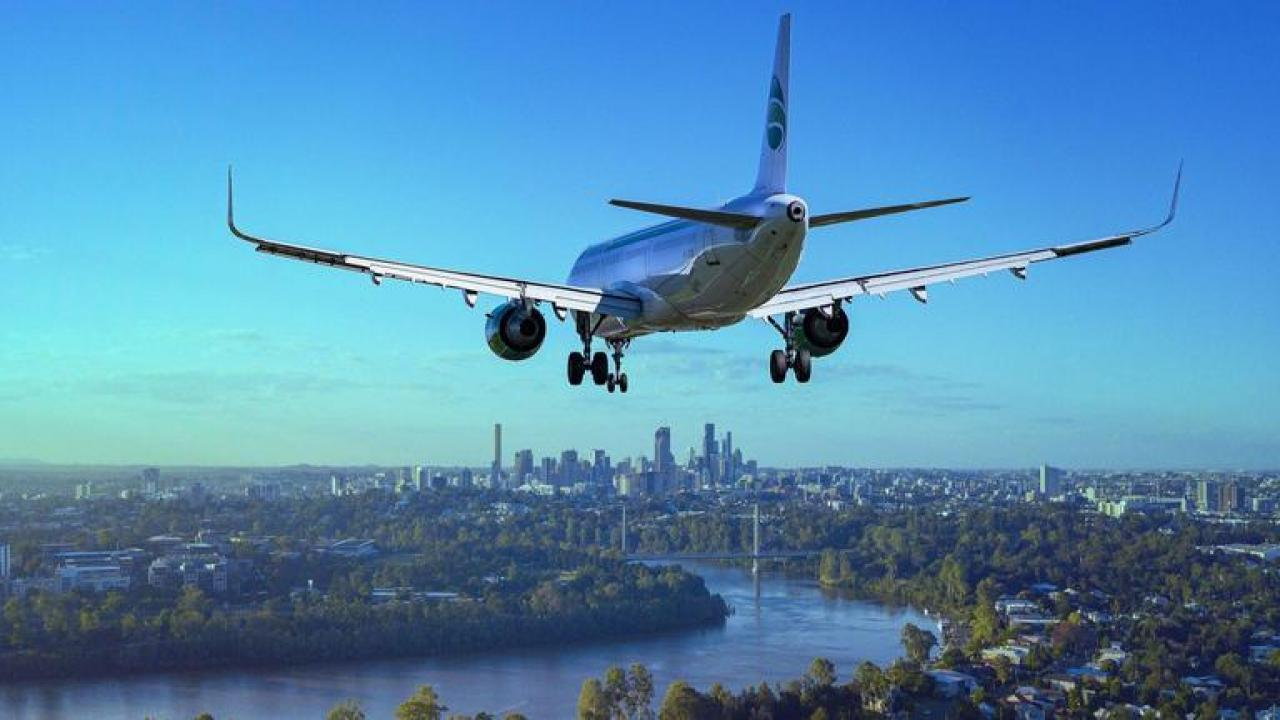Airplane: (201, 3, 1203, 411)
